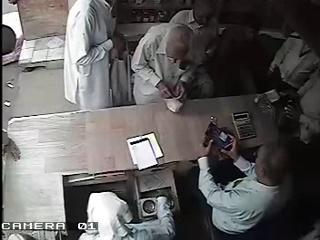Normal: (196, 128, 294, 240), (130, 5, 220, 109), (63, 1, 123, 110), (79, 189, 176, 240)
